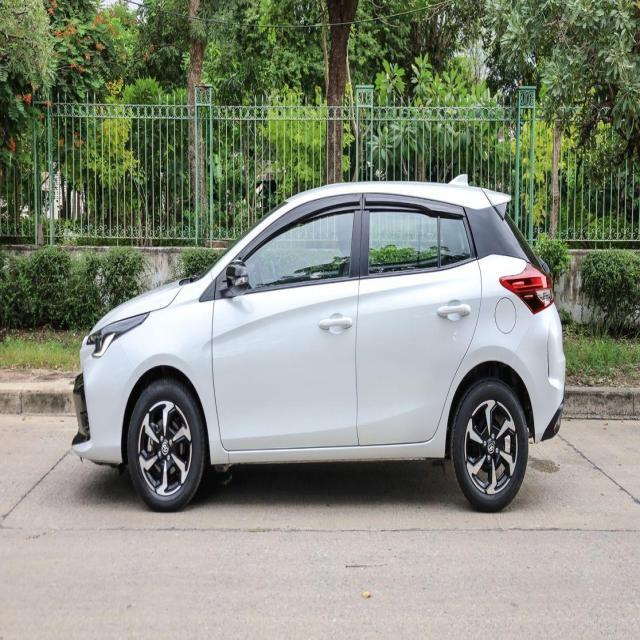Hatchback: (70, 179, 568, 514)
